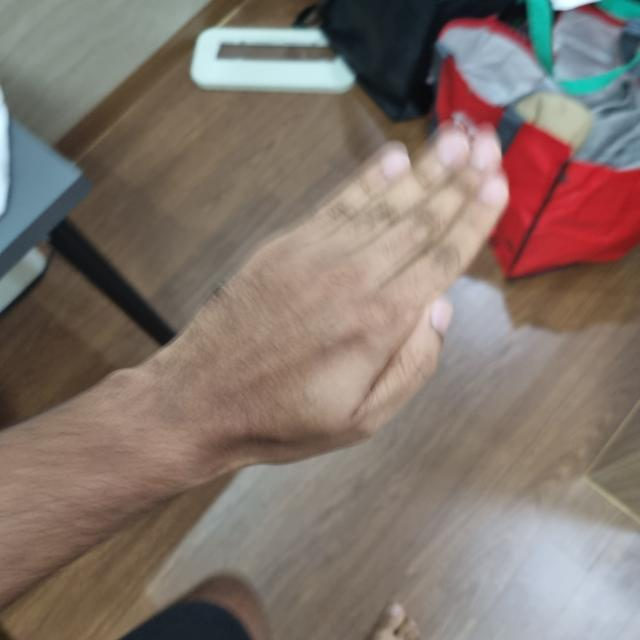Paper: (164, 124, 503, 463)
